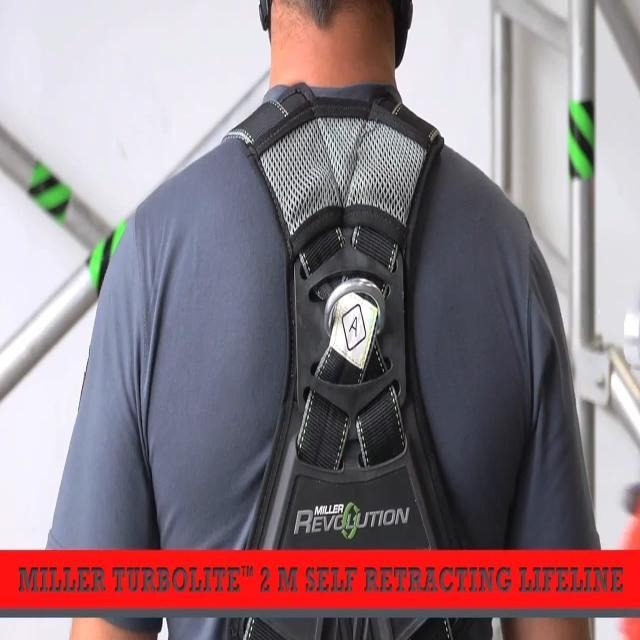Arnes_seguridad: (213, 90, 504, 640)
